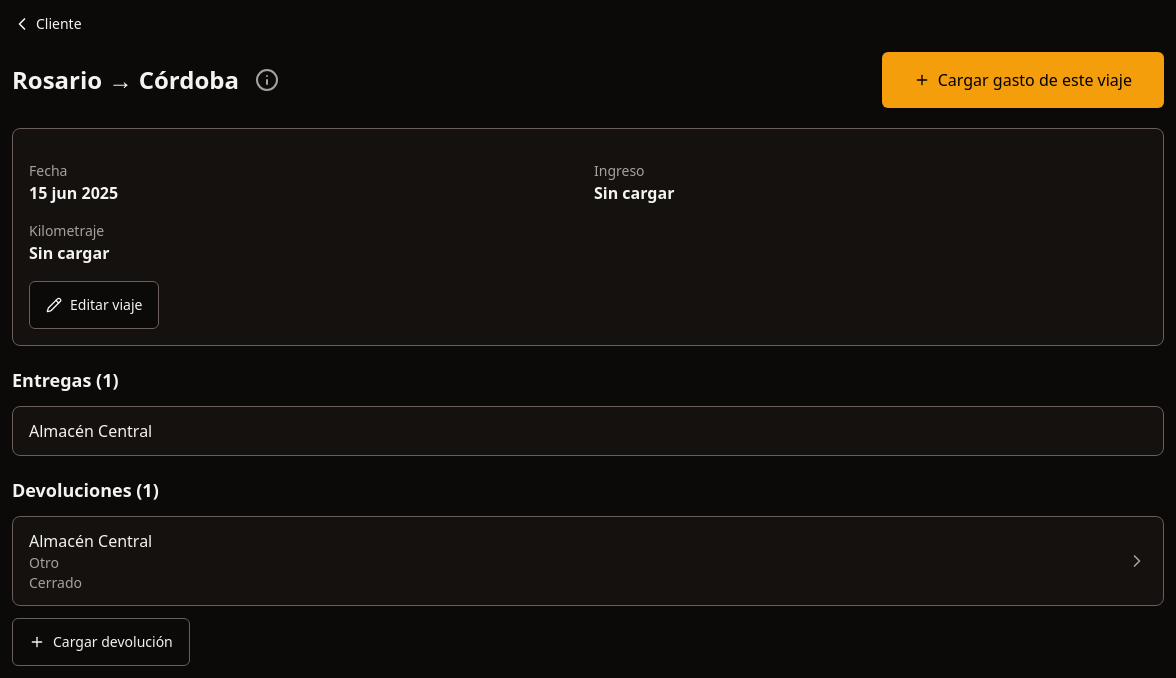
Test case: lo que se abre desde ese detalle devuelve el cliente al volver › editar el viaje y volver sin guardar: el detalle sigue ofreciendo "Cliente"
Step 1. Click the link "Editar viaje" → (94, 305), box [29, 281, 159, 329]
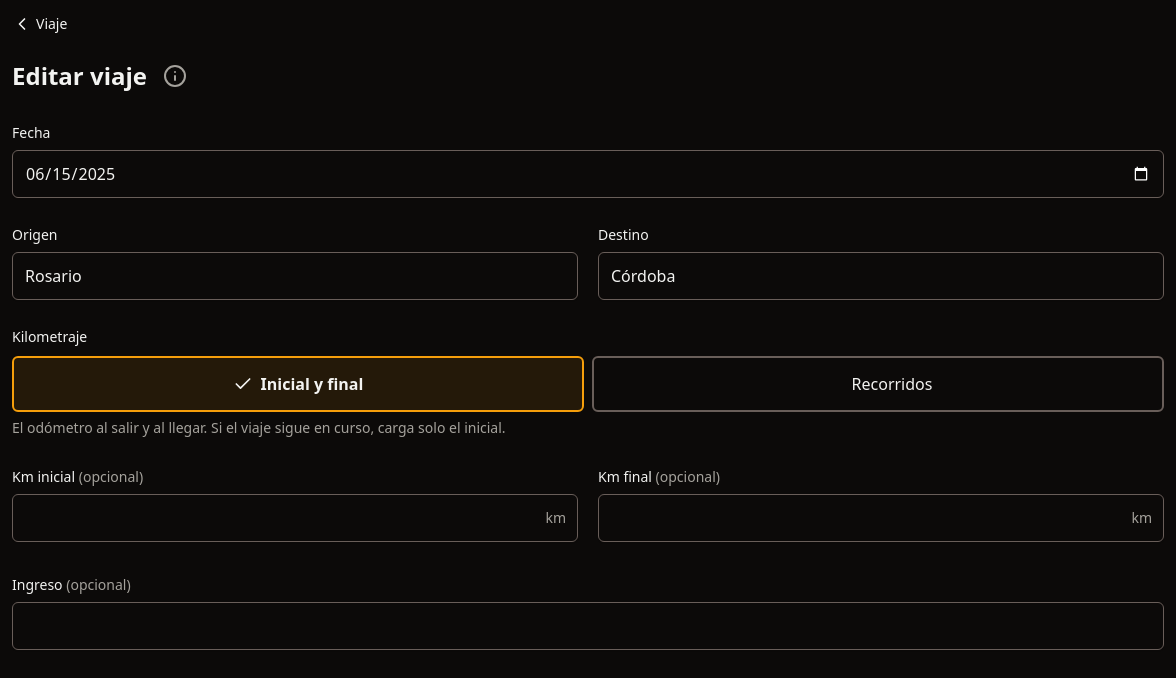
Step 2. Click the link with class "min-h-12" → (40, 24), box [12, 14, 67, 34]
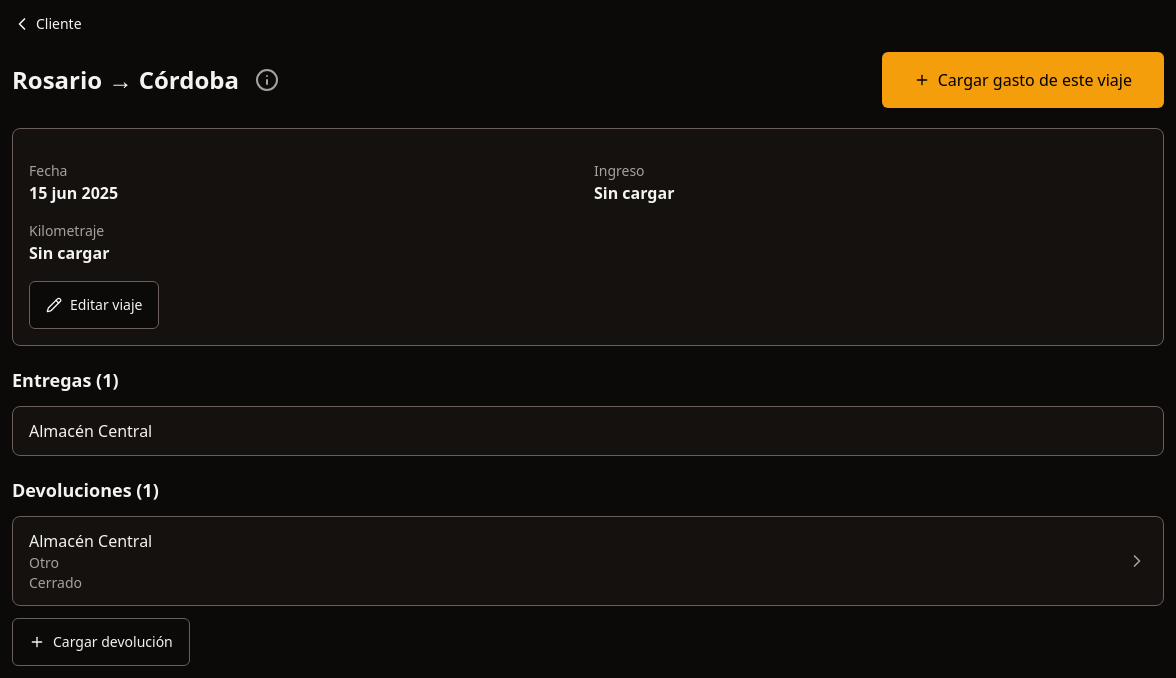
Expected: the link with class "min-h-12" reads "Cliente", [12, 14, 82, 34]
